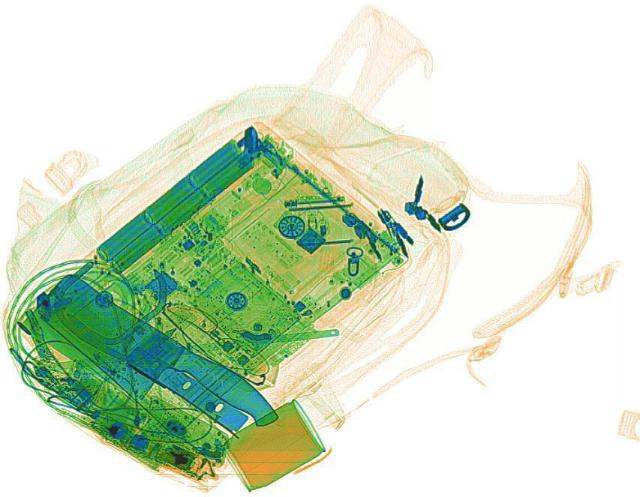Knife: (6, 264, 290, 461)
